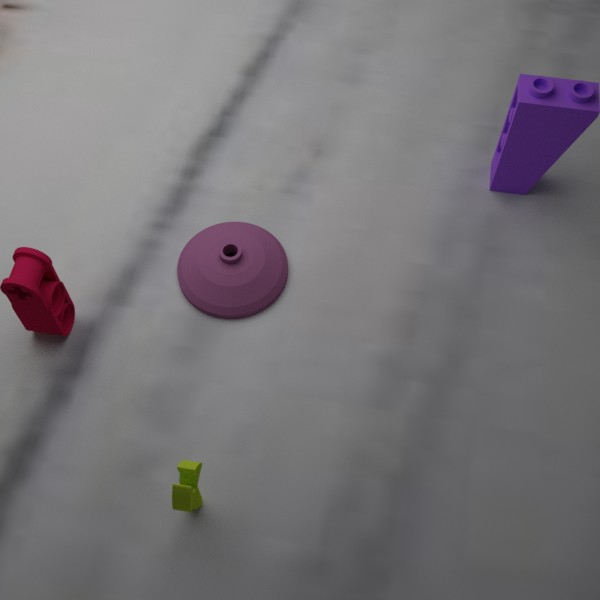lego: (489, 73, 599, 195), (177, 221, 288, 319), (0, 246, 75, 336), (171, 459, 202, 512)
